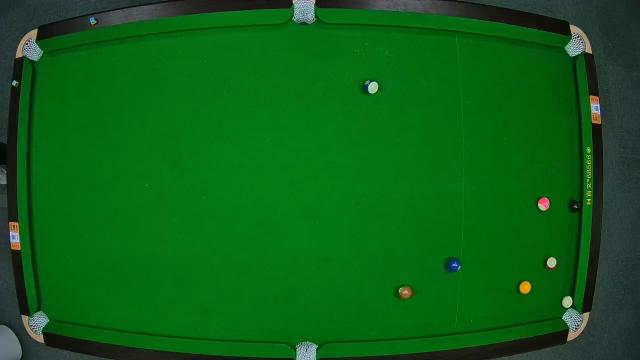bag1: (20, 40, 40, 60)
bag2: (292, 0, 316, 26)
bag3: (566, 35, 588, 56)
bag4: (28, 312, 50, 332)
bag5: (294, 340, 318, 360)
bag6: (562, 310, 582, 330)
ball0: (560, 296, 574, 310)
ball1: (519, 280, 533, 295)
ball10: (364, 80, 378, 94)
ball11: (545, 254, 559, 270)
ball12: (537, 196, 551, 212)
ball2: (446, 258, 462, 273)
ball7: (398, 285, 412, 299)
ball8: (568, 199, 582, 213)
